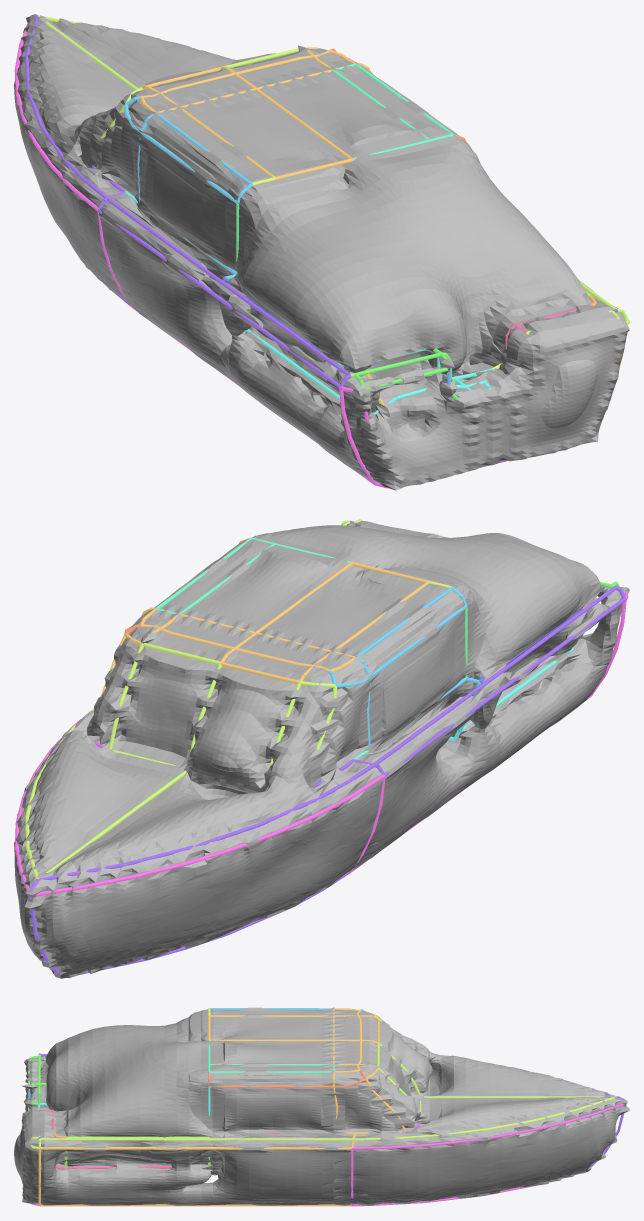
The model's file is flowrep_boat.gltf.
The picture shows the model from 3 angles, top to bottom: view 1: azimuth 30°, elevation 25°; view 2: azimuth 150°, elevation 25°; view 3: azimuth 270°, elevation 25°; orthographic projection. The views are drawn at different scales.
Bounding box in the file's own units: 0.3344 × 0.2507 × 0.9489.
